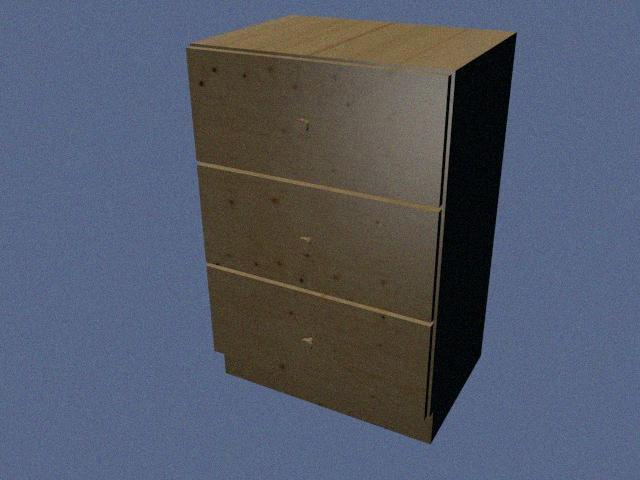cabinet_door: (191, 62, 443, 184), (202, 188, 434, 292), (210, 296, 427, 386)
handle: (294, 334, 316, 354), (296, 233, 314, 254), (294, 115, 311, 136)
